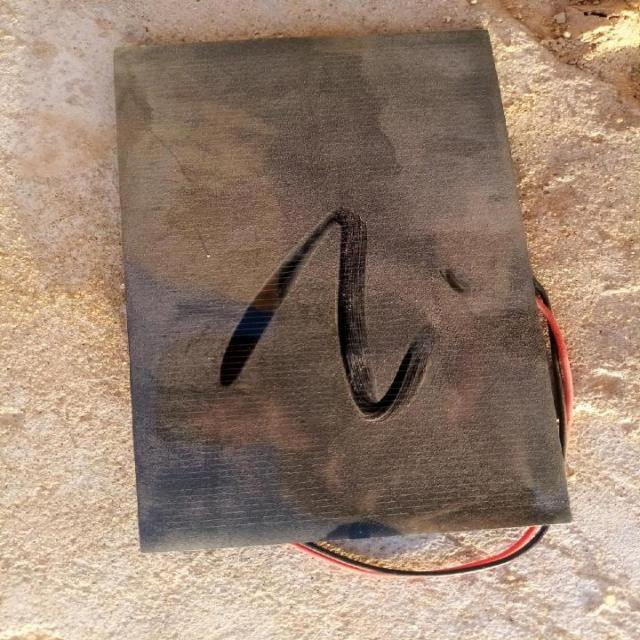faulty: (118, 30, 576, 552)
